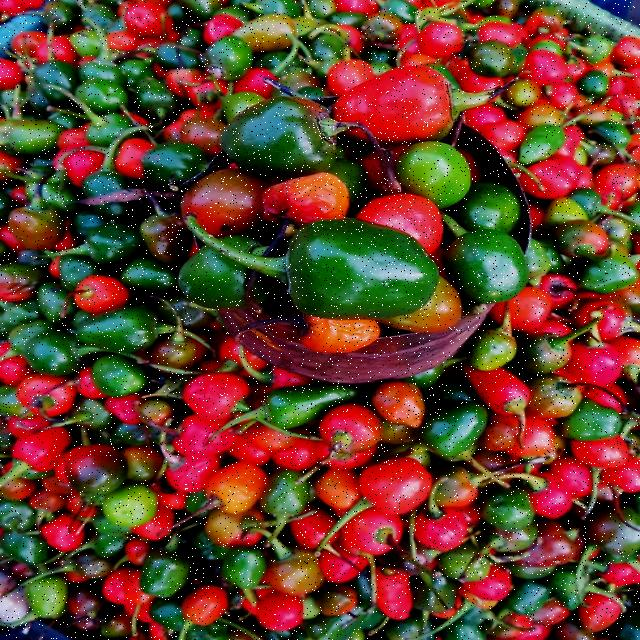NA: (64, 221, 275, 383), (172, 471, 351, 640), (406, 366, 584, 506), (271, 202, 457, 326), (38, 420, 185, 571), (443, 165, 549, 359), (23, 0, 254, 84), (28, 102, 205, 210), (381, 465, 556, 569), (253, 364, 409, 480), (199, 74, 334, 204), (304, 56, 467, 158), (66, 306, 199, 395), (462, 24, 574, 84)
